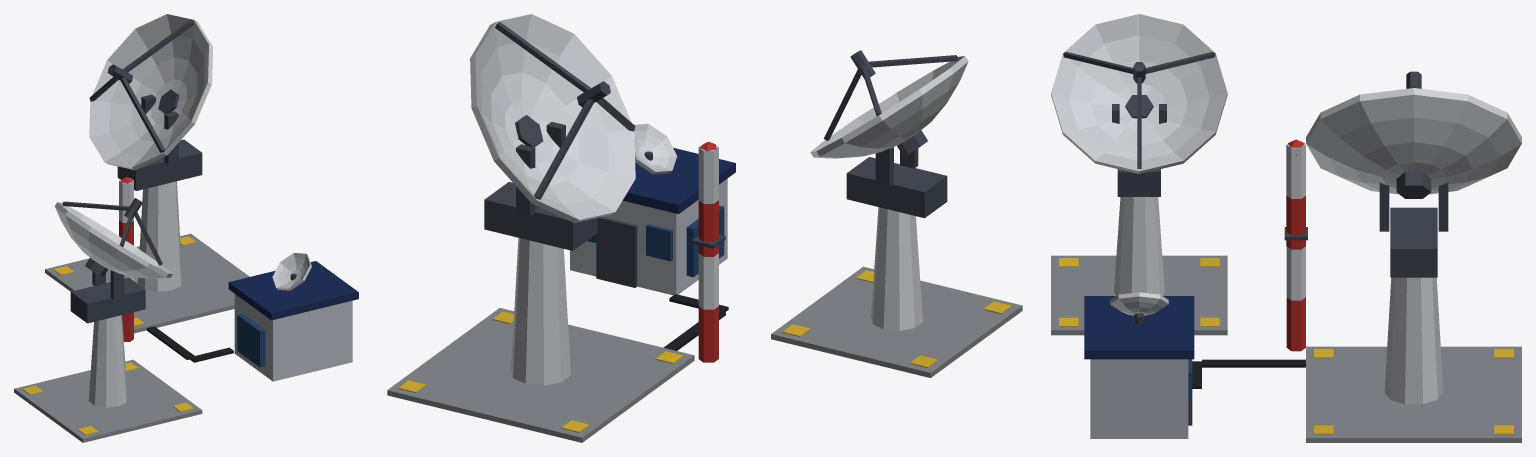
The model's file is Decor_LaunchPad_Radar.fbx.
3 renders of one model, left to right at view 1: azimuth 30°, elevation 25°; view 2: azimuth 150°, elevation 25°; view 3: azimuth 270°, elevation 25°, orthographic. The views are drawn at different scales.
Parts seen in each view (by area): view 1: Radar_Body; view 2: Radar_Body; view 3: Radar_Body.
Boxes of the visible parts, x1,y1,x2,y2 form: Radar_Body: [14, 14, 358, 442]; Radar_Body: [387, 14, 1022, 442]; Radar_Body: [1051, 14, 1521, 442].
Size of the model in its own units: 22 by 18.6 by 24.
